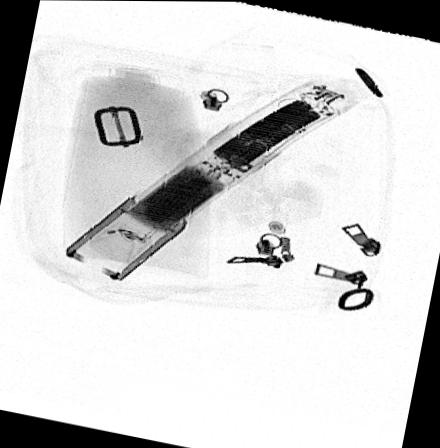Baton: (60, 77, 359, 283)
